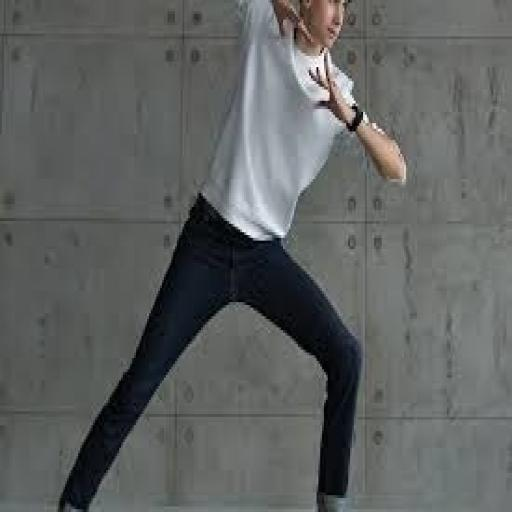dancing: (56, 0, 409, 509)
